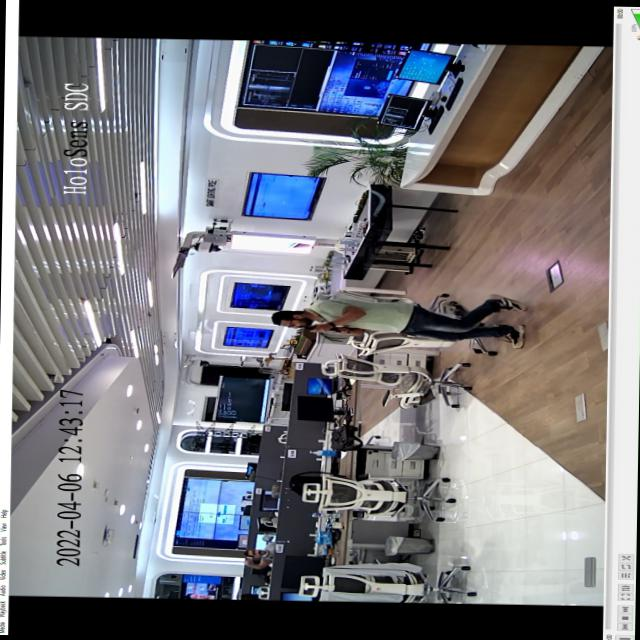long weapon: (295, 322, 353, 332)
